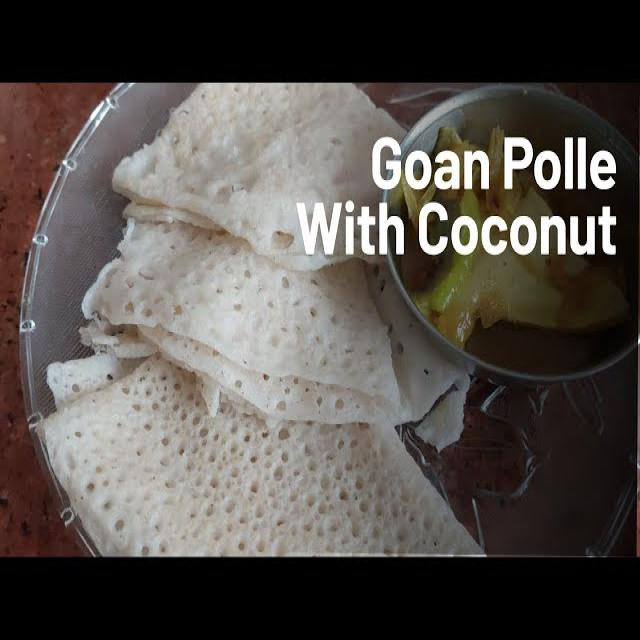DOSA: (43, 350, 487, 558), (90, 209, 464, 432), (103, 77, 395, 272)
